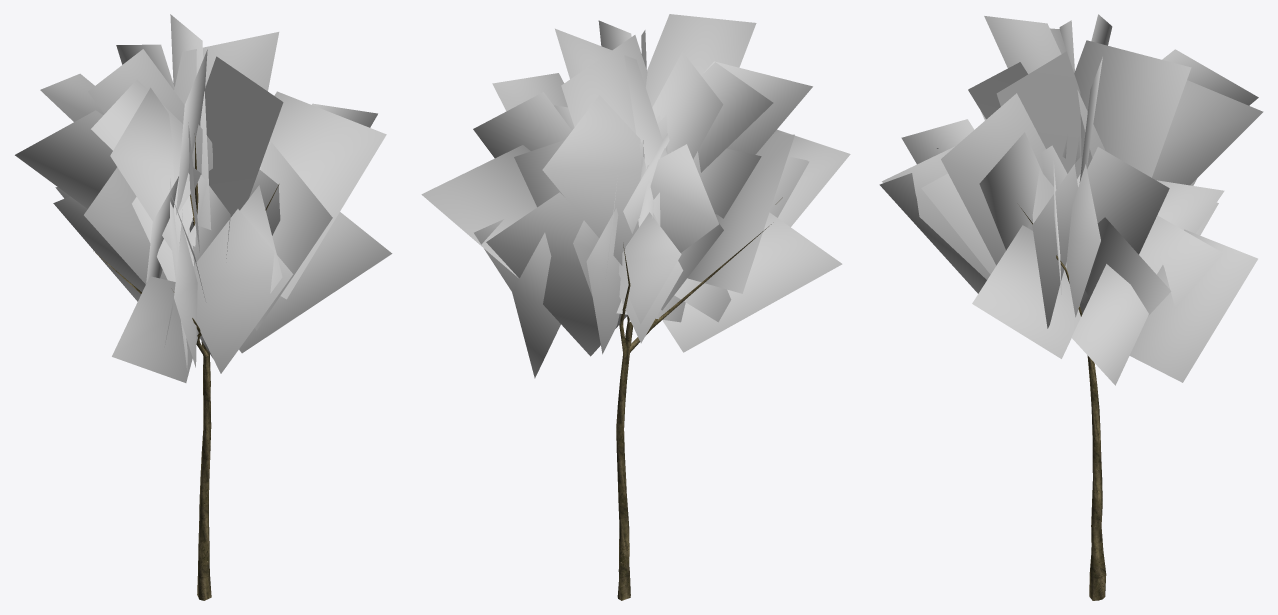
The model's file is Prop_Tree_03.FBX.
3 renders of one model, left to right at view 1: azimuth 30°, elevation 25°; view 2: azimuth 150°, elevation 25°; view 3: azimuth 270°, elevation 25°, orthographic.
Visible parts, largest first — view 1: 1215; view 2: 1215; view 3: 1215.
Boxes of the visible parts, x1=… form: 1215: x1=15, y1=14, x2=392, y2=600; 1215: x1=421, y1=14, x2=850, y2=600; 1215: x1=879, y1=14, x2=1263, y2=600.
Size of the model in its own units: 571 by 973 by 600.
